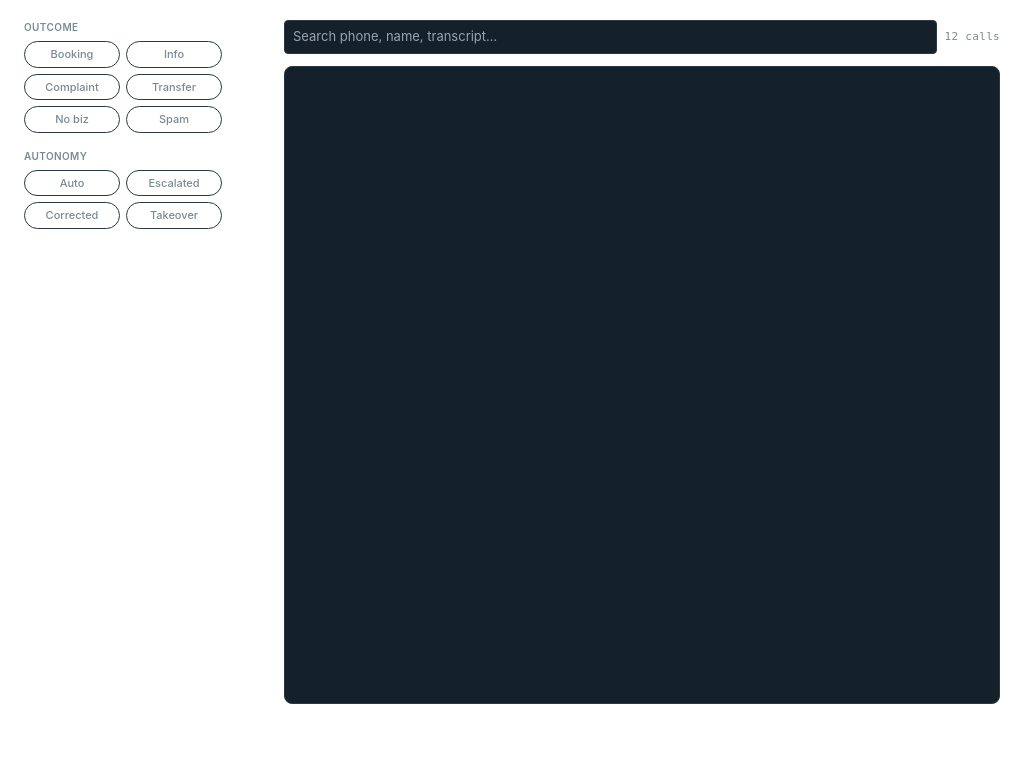
OpsCallsPreview › Search input › shows empty state when search has no matches
Type "xyzzy-no-match-9999" into the search field at (610, 37), box [284,20,937,54]
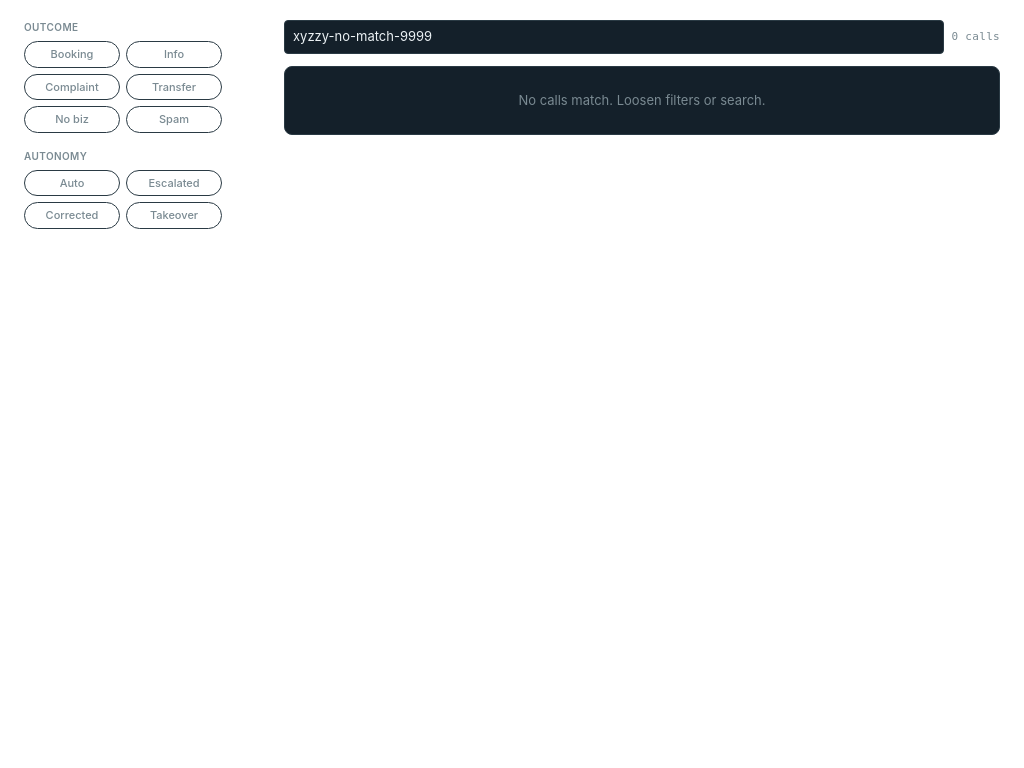
Expected: the text "No calls match. Loosen filters or search." is shown, [518,92,766,108]
